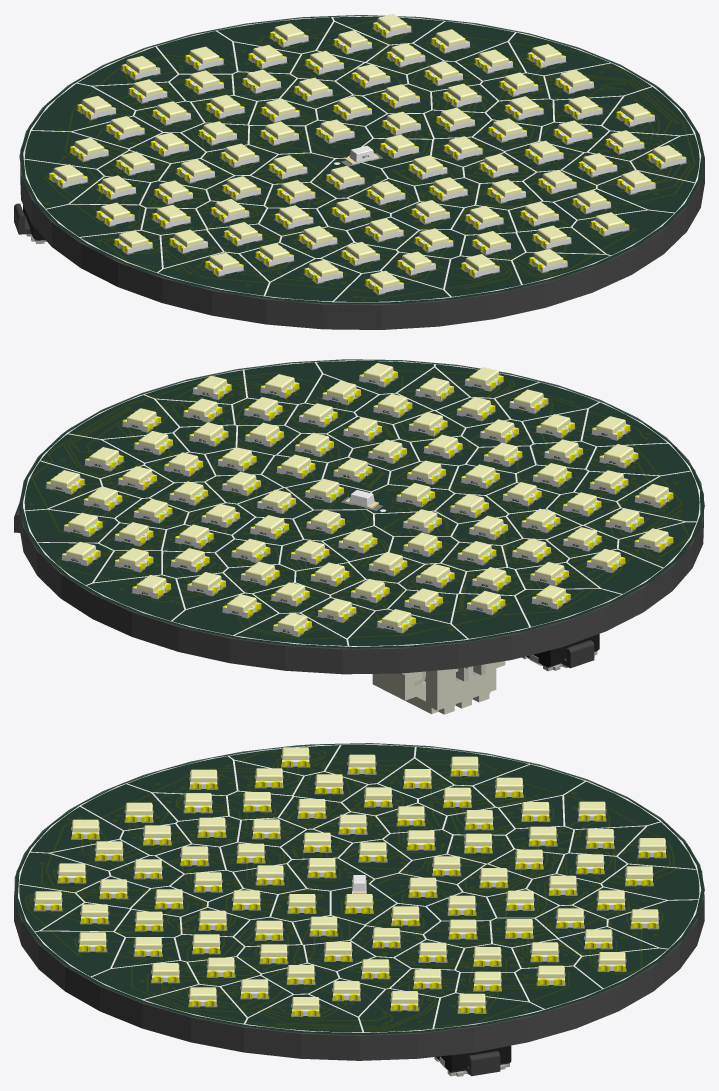
The model's file is board.glb.
3 renders of one model, top to bottom at view 1: azimuth 30°, elevation 25°; view 2: azimuth 150°, elevation 25°; view 3: azimuth 270°, elevation 25°, orthographic.
Parts seen in each view (by area): view 1: sunflower_soldermask, sunflower_PCB, LED-ARRAY-SMD_4P-L1.6-W1.5-BR_XL-1615RGBC-RF (×88), sunflower_silkscreen, sunflower_copper, sunflower_pad, SW-SMD_EVQP7C01P-L3.6-W3.5-H1.4-P3.6-LS4.7; view 2: sunflower_soldermask, sunflower_PCB, LED-ARRAY-SMD_4P-L1.6-W1.5-BR_XL-1615RGBC-RF (×88), sunflower_silkscreen, sunflower_copper, sunflower_pad, Molex_PicoBlade_53261-0271_1x02-1MP_P1.25mm_Horizontal, SW-SMD_EVQP7C01P-L3.6-W3.5-H1.4-P3.6-LS4.7; view 3: sunflower_soldermask, sunflower_PCB, LED-ARRAY-SMD_4P-L1.6-W1.5-BR_XL-1615RGBC-RF (×88), sunflower_silkscreen, sunflower_copper, sunflower_pad, SW-SMD_EVQP7C01P-L3.6-W3.5-H1.4-P3.6-LS4.7.
Part boxes in pixels (<box>): sunflower_soldermask: <box>19,15,704,304</box>; sunflower_PCB: <box>20,17,704,329</box>; LED-ARRAY-SMD_4P-L1.6-W1.5-BR_XL-1615RGBC-RF (×88): <box>49,14,686,294</box>; sunflower_silkscreen: <box>23,16,701,302</box>; sunflower_copper: <box>27,20,695,300</box>; sunflower_pad: <box>48,28,687,295</box>; SW-SMD_EVQP7C01P-L3.6-W3.5-H1.4-P3.6-LS4.7: <box>14,203,46,244</box>; sunflower_soldermask: <box>19,359,704,648</box>; sunflower_PCB: <box>19,361,703,674</box>; LED-ARRAY-SMD_4P-L1.6-W1.5-BR_XL-1615RGBC-RF (×88): <box>46,363,673,636</box>; sunflower_silkscreen: <box>23,360,700,646</box>; sunflower_copper: <box>30,369,689,639</box>; sunflower_pad: <box>45,377,674,637</box>; Molex_PicoBlade_53261-0271_1x02-1MP_P1.25mm_Horizontal: <box>372,661,505,714</box>; SW-SMD_EVQP7C01P-L3.6-W3.5-H1.4-P3.6-LS4.7: <box>522,634,599,671</box>; sunflower_soldermask: <box>14,743,704,1034</box>; sunflower_PCB: <box>14,745,704,1060</box>; LED-ARRAY-SMD_4P-L1.6-W1.5-BR_XL-1615RGBC-RF (×88): <box>34,747,665,1016</box>; sunflower_silkscreen: <box>18,744,701,1032</box>; sunflower_copper: <box>26,750,674,1030</box>; sunflower_pad: <box>33,754,666,1017</box>; SW-SMD_EVQP7C01P-L3.6-W3.5-H1.4-P3.6-LS4.7: <box>434,1045,511,1076</box>.
Size of the model in its own units: 0.038 by 0.00568 by 0.038.
